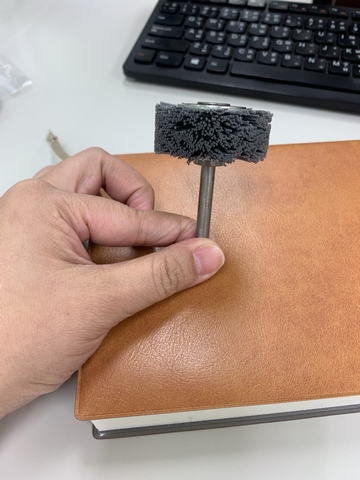Wheel Brush: (152, 95, 280, 236), (144, 95, 296, 182)
